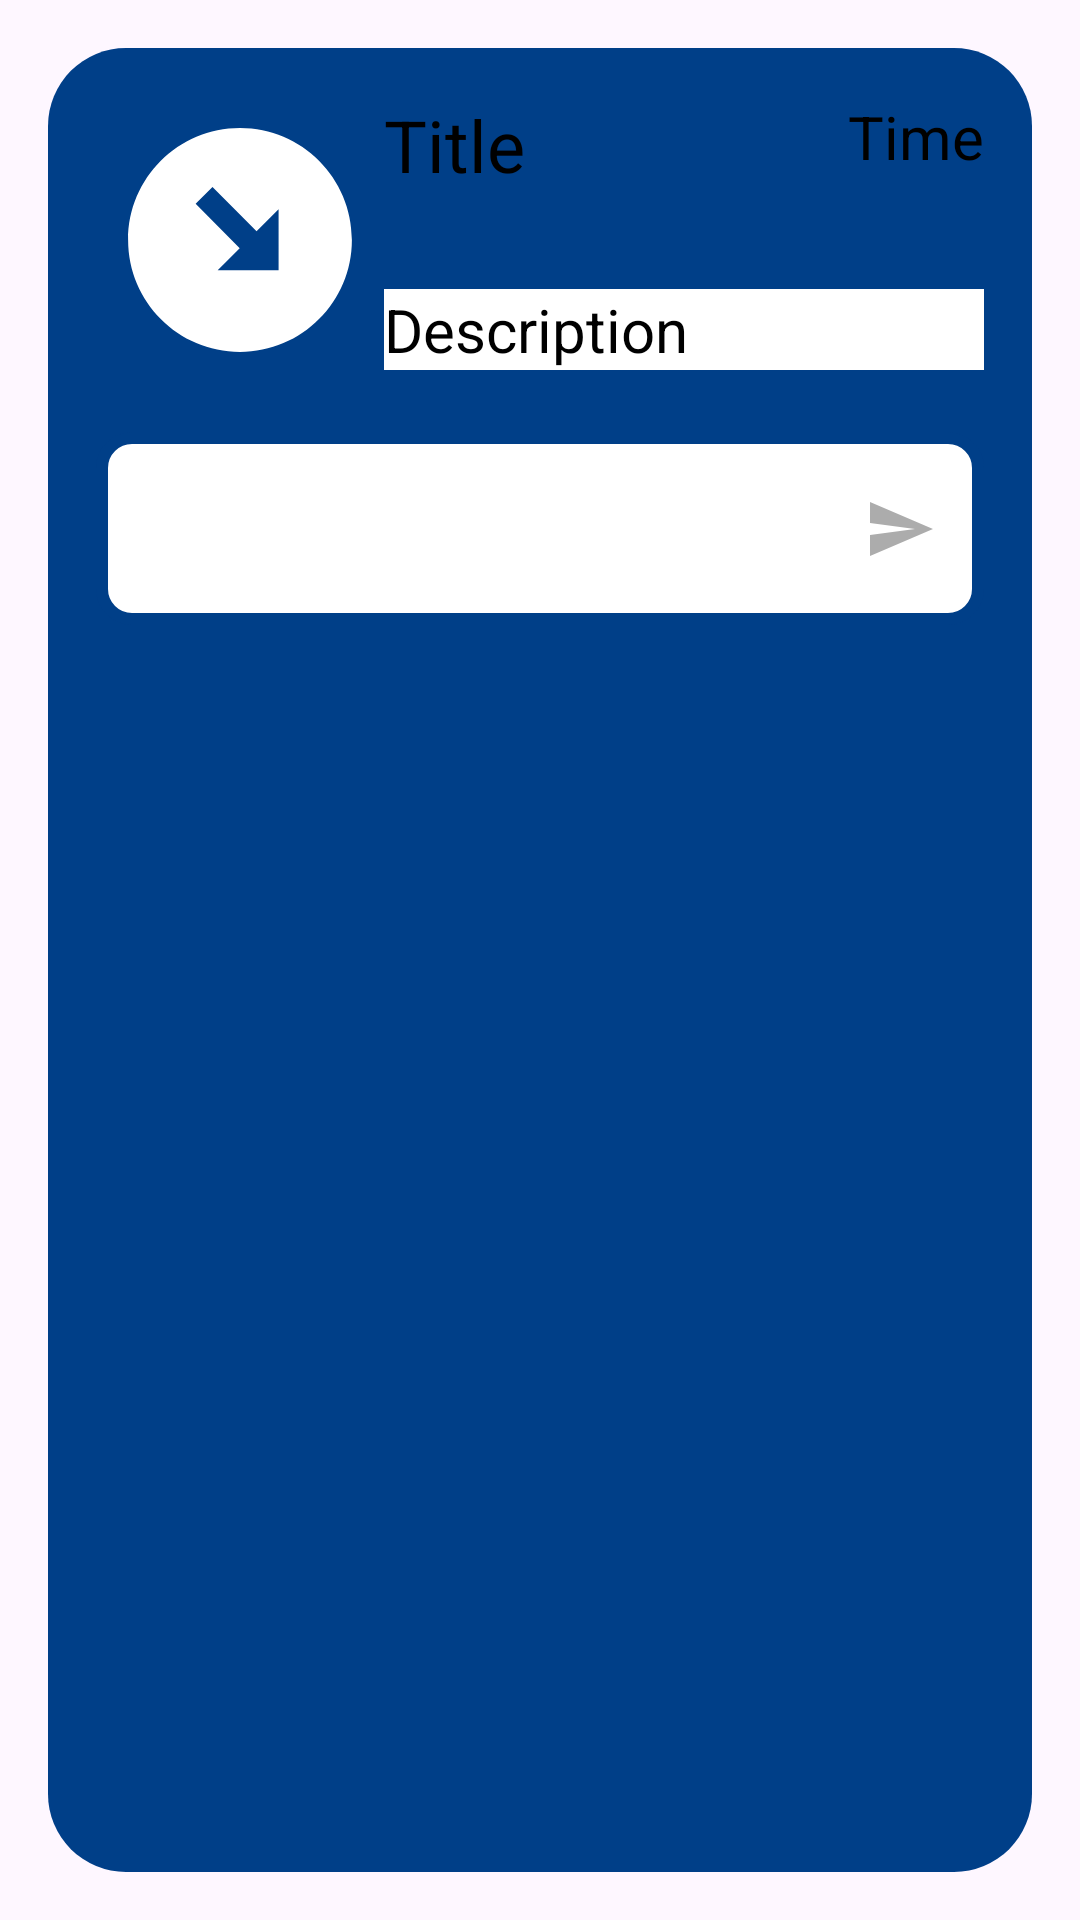

Icons on this 1080 x 1920 Android screen, each with the point to tap as [x,y]:
circled arrow: [240,240]
send: [901,529]
